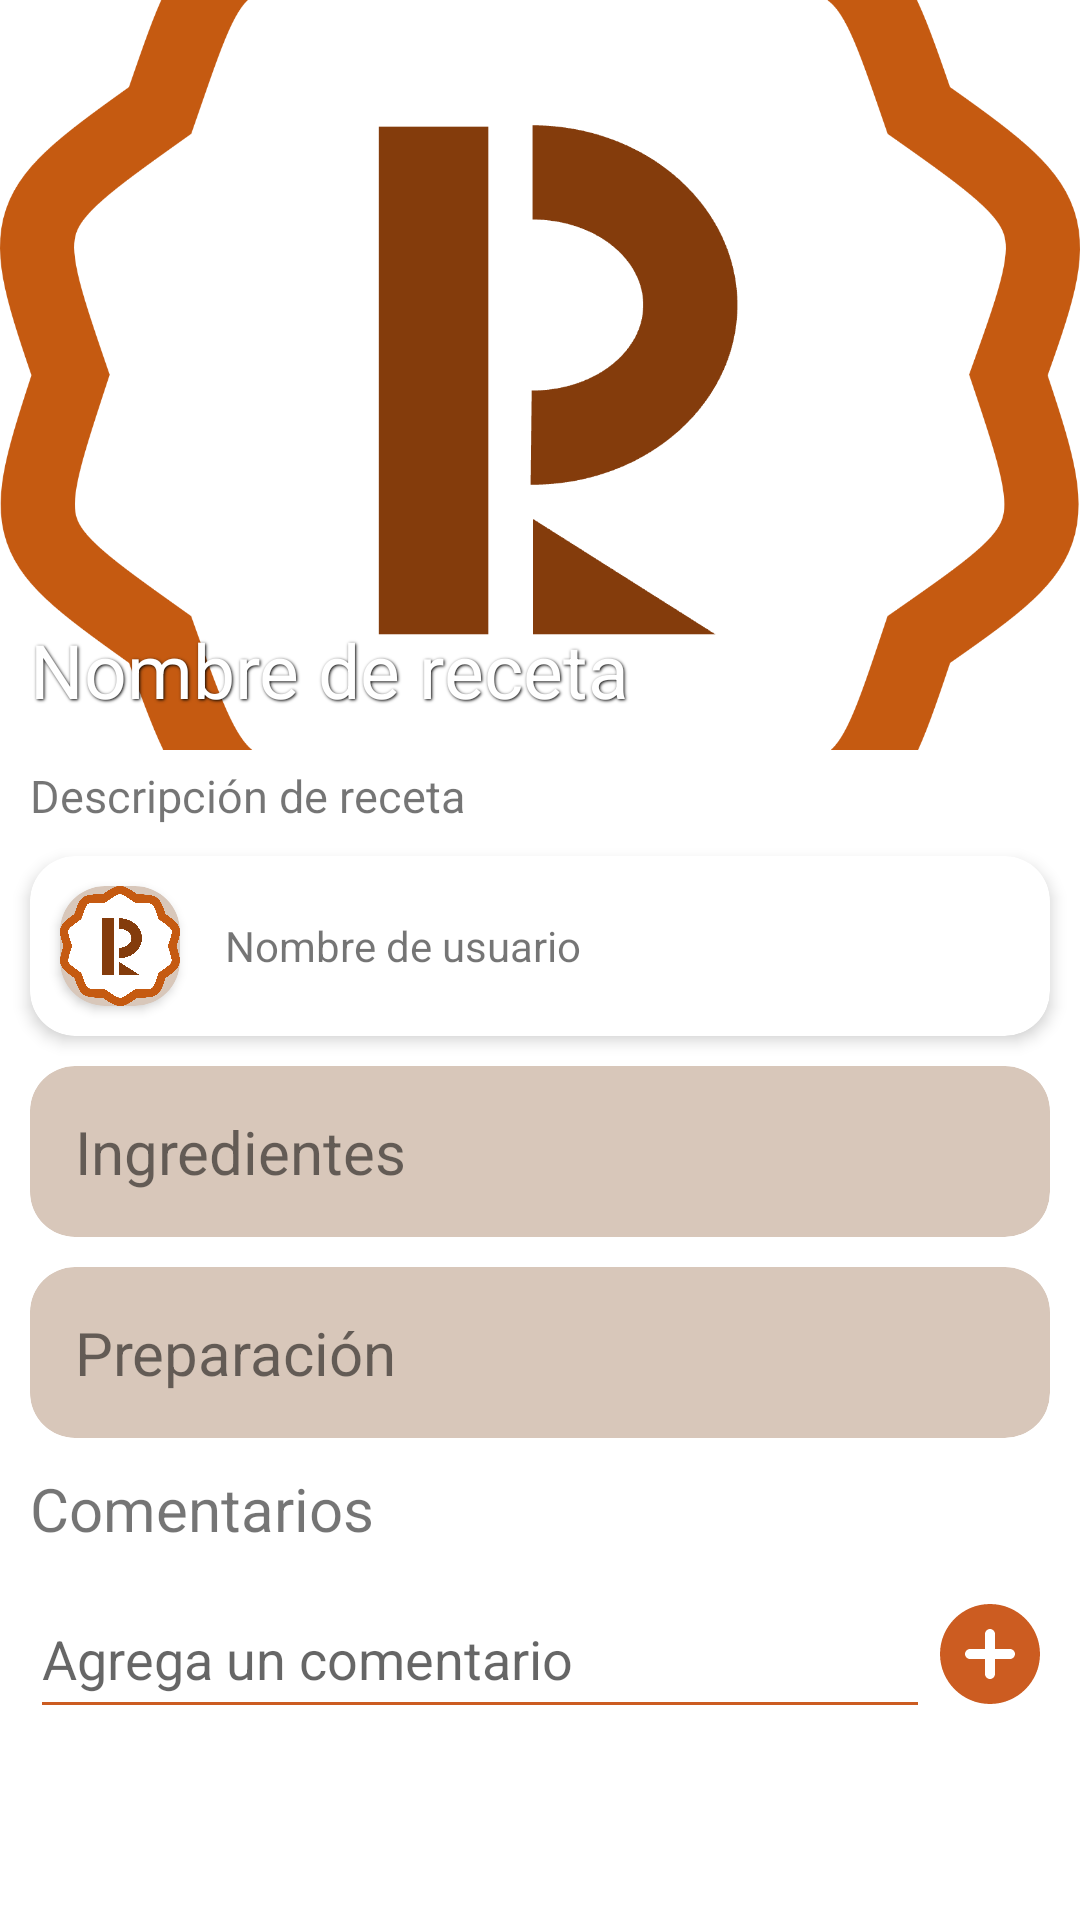

Where icons sit on this 1080px×1920px app screen, as (x1, y1, x2, y2):
add circle: (940, 1604, 1040, 1704)
